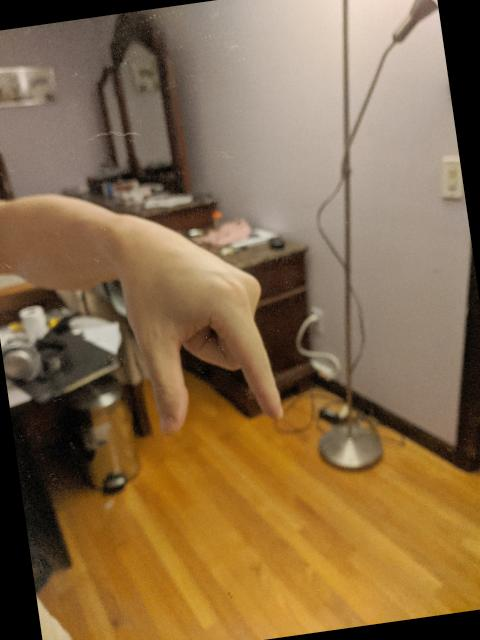Q: (108, 199, 290, 446)
